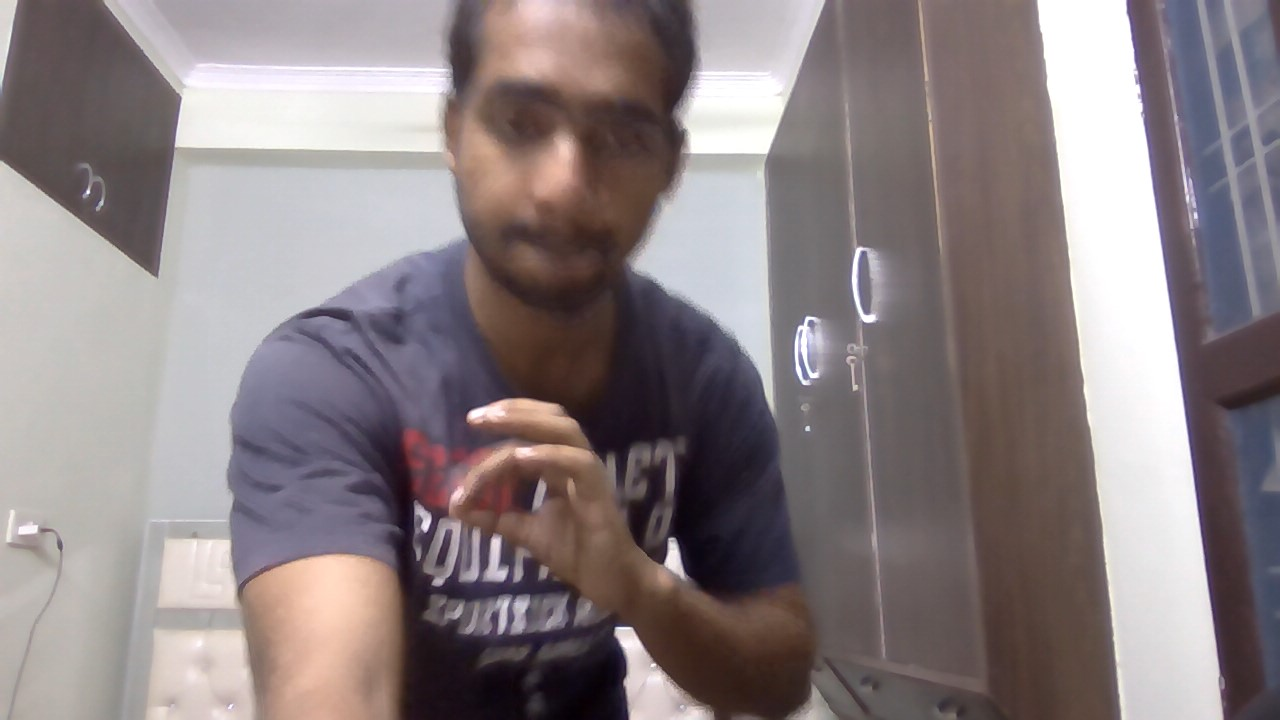Copy: (440, 386, 662, 631)
